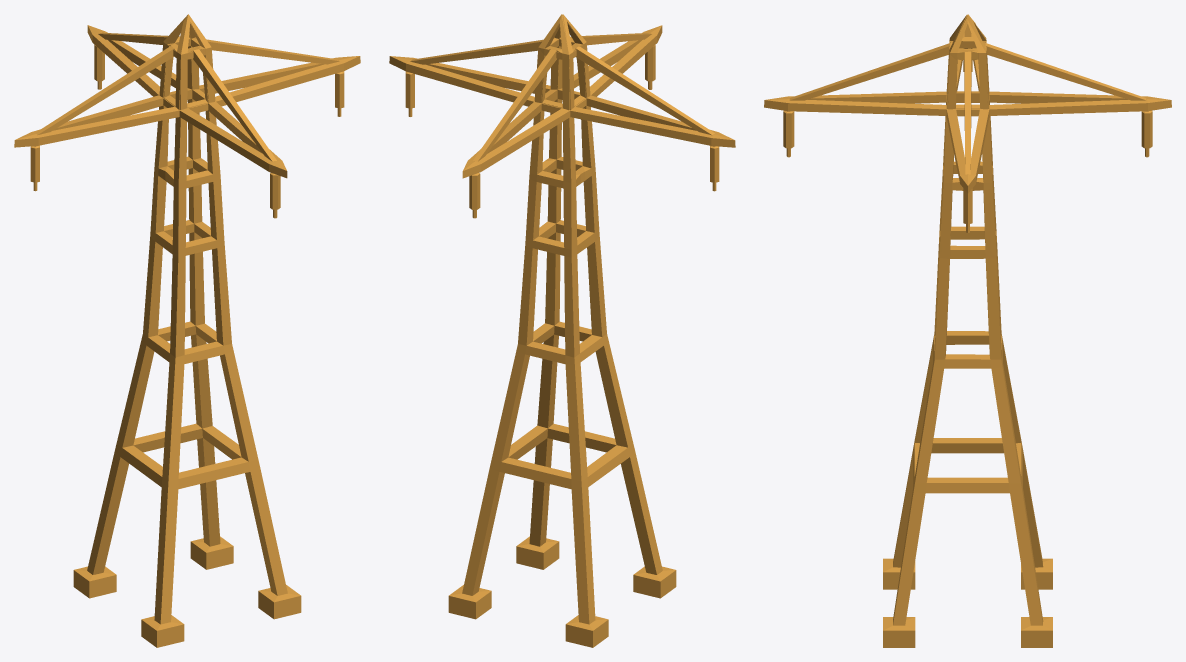
The model's file is power_line_pole_modified.glb.
3 views of the same model, side by side, from view 1: azimuth 30°, elevation 25°; view 2: azimuth 150°, elevation 25°; view 3: azimuth 270°, elevation 25° (orthographic). The views are drawn at different scales.
Parts seen in each view (by area): view 1: power_line_pole; view 2: power_line_pole; view 3: power_line_pole.
Part boxes in pixels (x1,y1,x2,y2): power_line_pole: (14, 14, 360, 647); power_line_pole: (389, 14, 735, 647); power_line_pole: (764, 14, 1171, 647).
Size of the model in its own units: 8.88 by 14.35 by 8.88.
